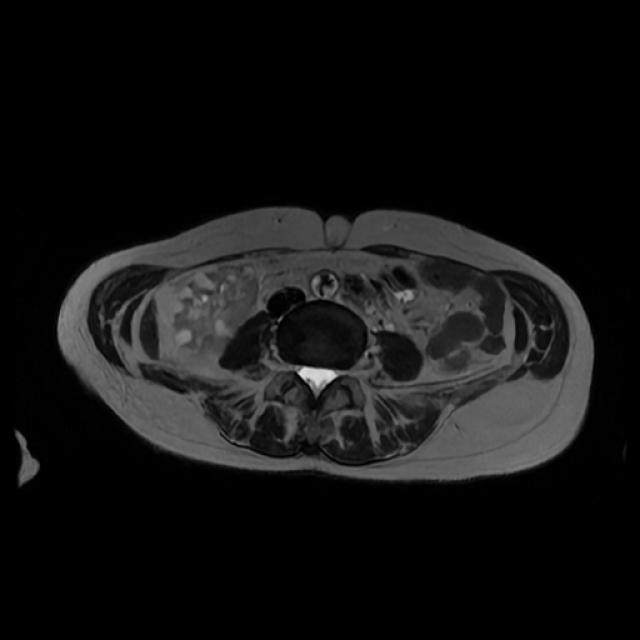sag: (171, 260, 260, 357)
